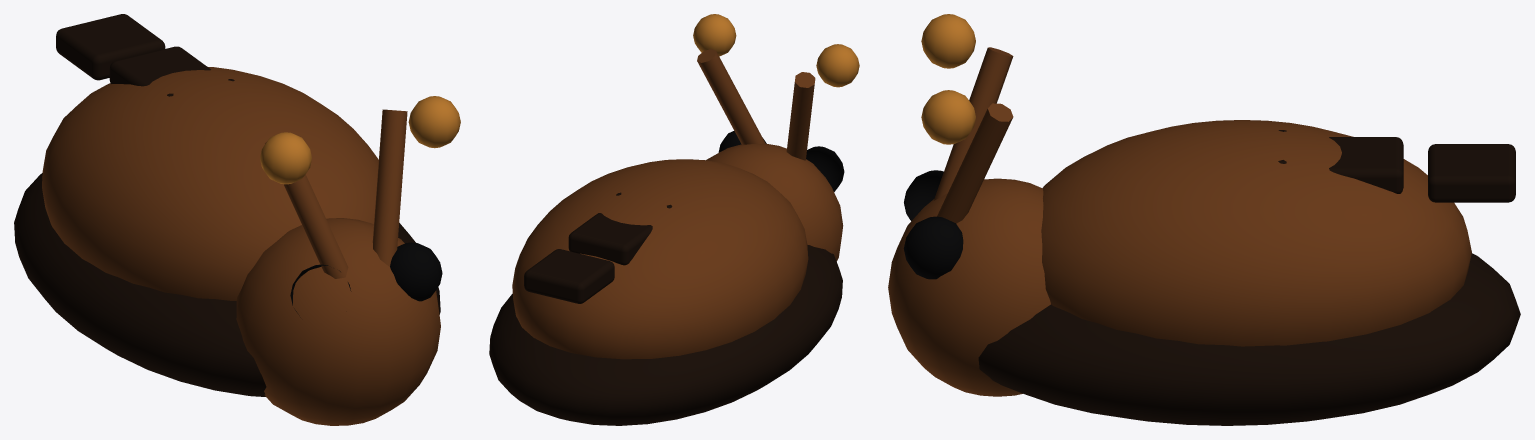
File: guijarro.obj
The picture shows the model from 3 angles, left to right: view 1: azimuth 30°, elevation 25°; view 2: azimuth 150°, elevation 25°; view 3: azimuth 270°, elevation 25°; orthographic projection. The views are drawn at different scales.
Bounding box in the file's own units: 0.4 × 0.378 × 0.647.
